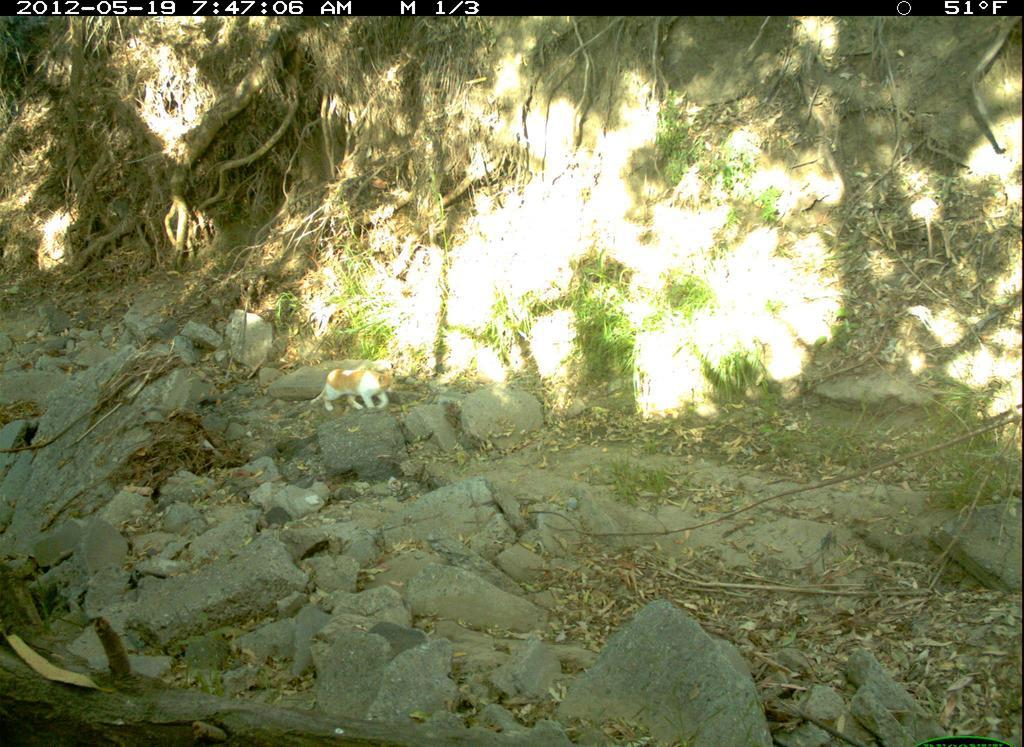cat: (309, 369, 400, 411)
